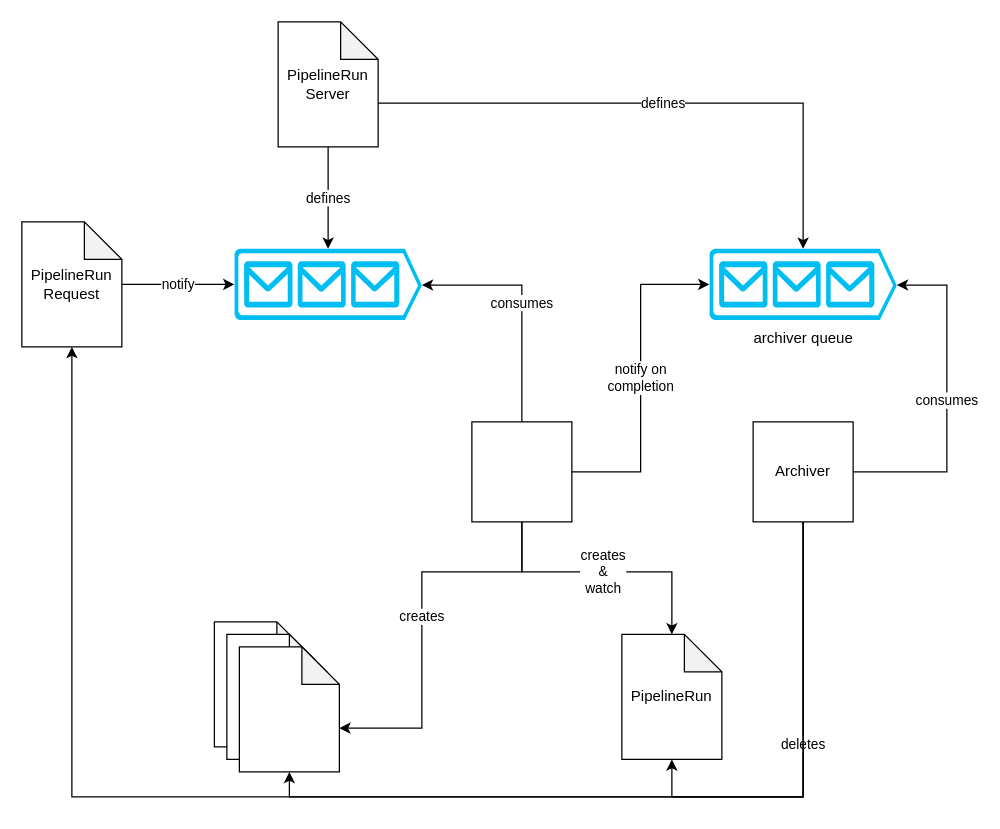
Image size: 1000x829. Some labels were removed from this diagram. Each missing label, with the centre of its shape:
"Extra Resources" goes at pixel 288 709.
"Worker" goes at pixel 521 471.
"worker queue" goes at pixel 327 283.
